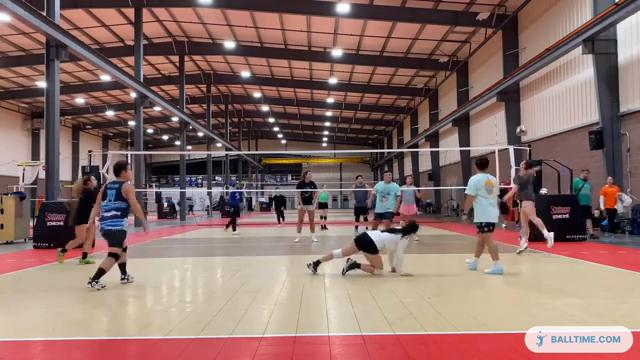attacco: (501, 154, 557, 254)
